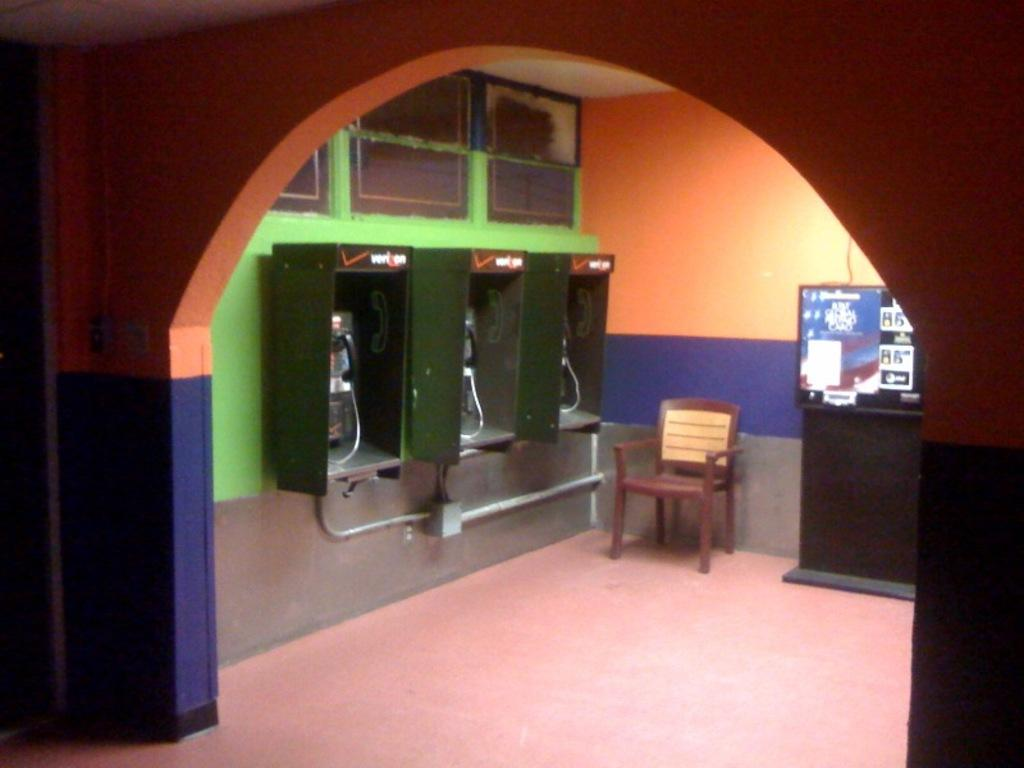Chair: (594, 381, 751, 570)
